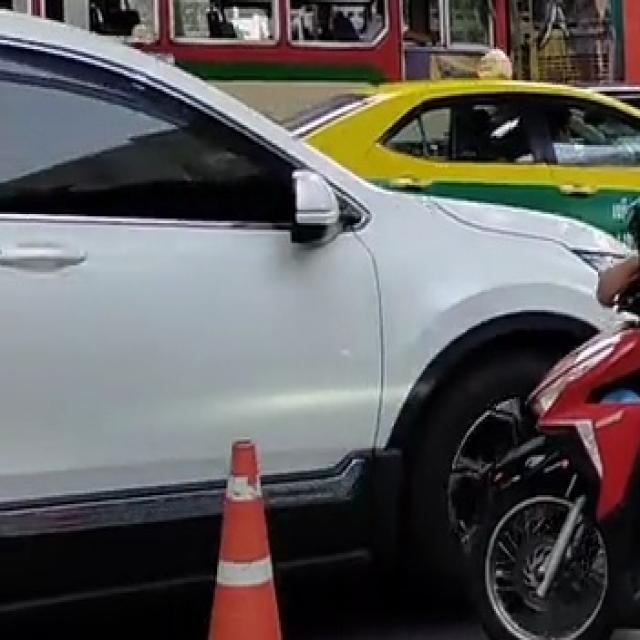door: (0, 7, 385, 638)
helmet: (624, 190, 638, 254)
